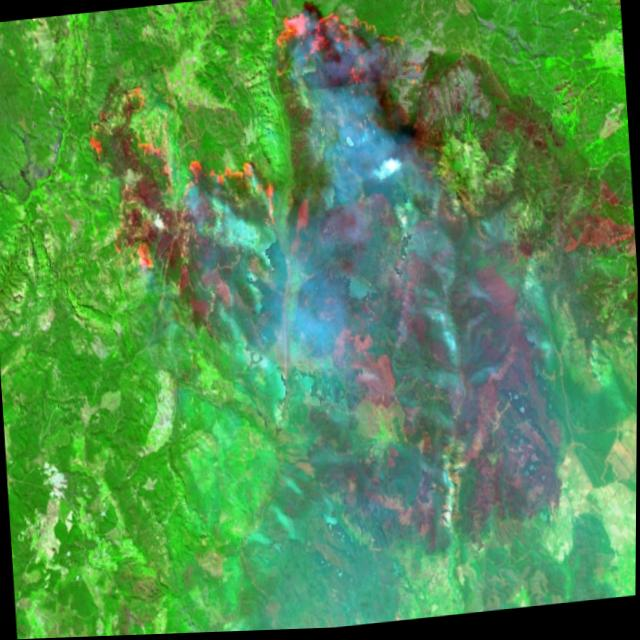fire: (78, 0, 444, 313)
